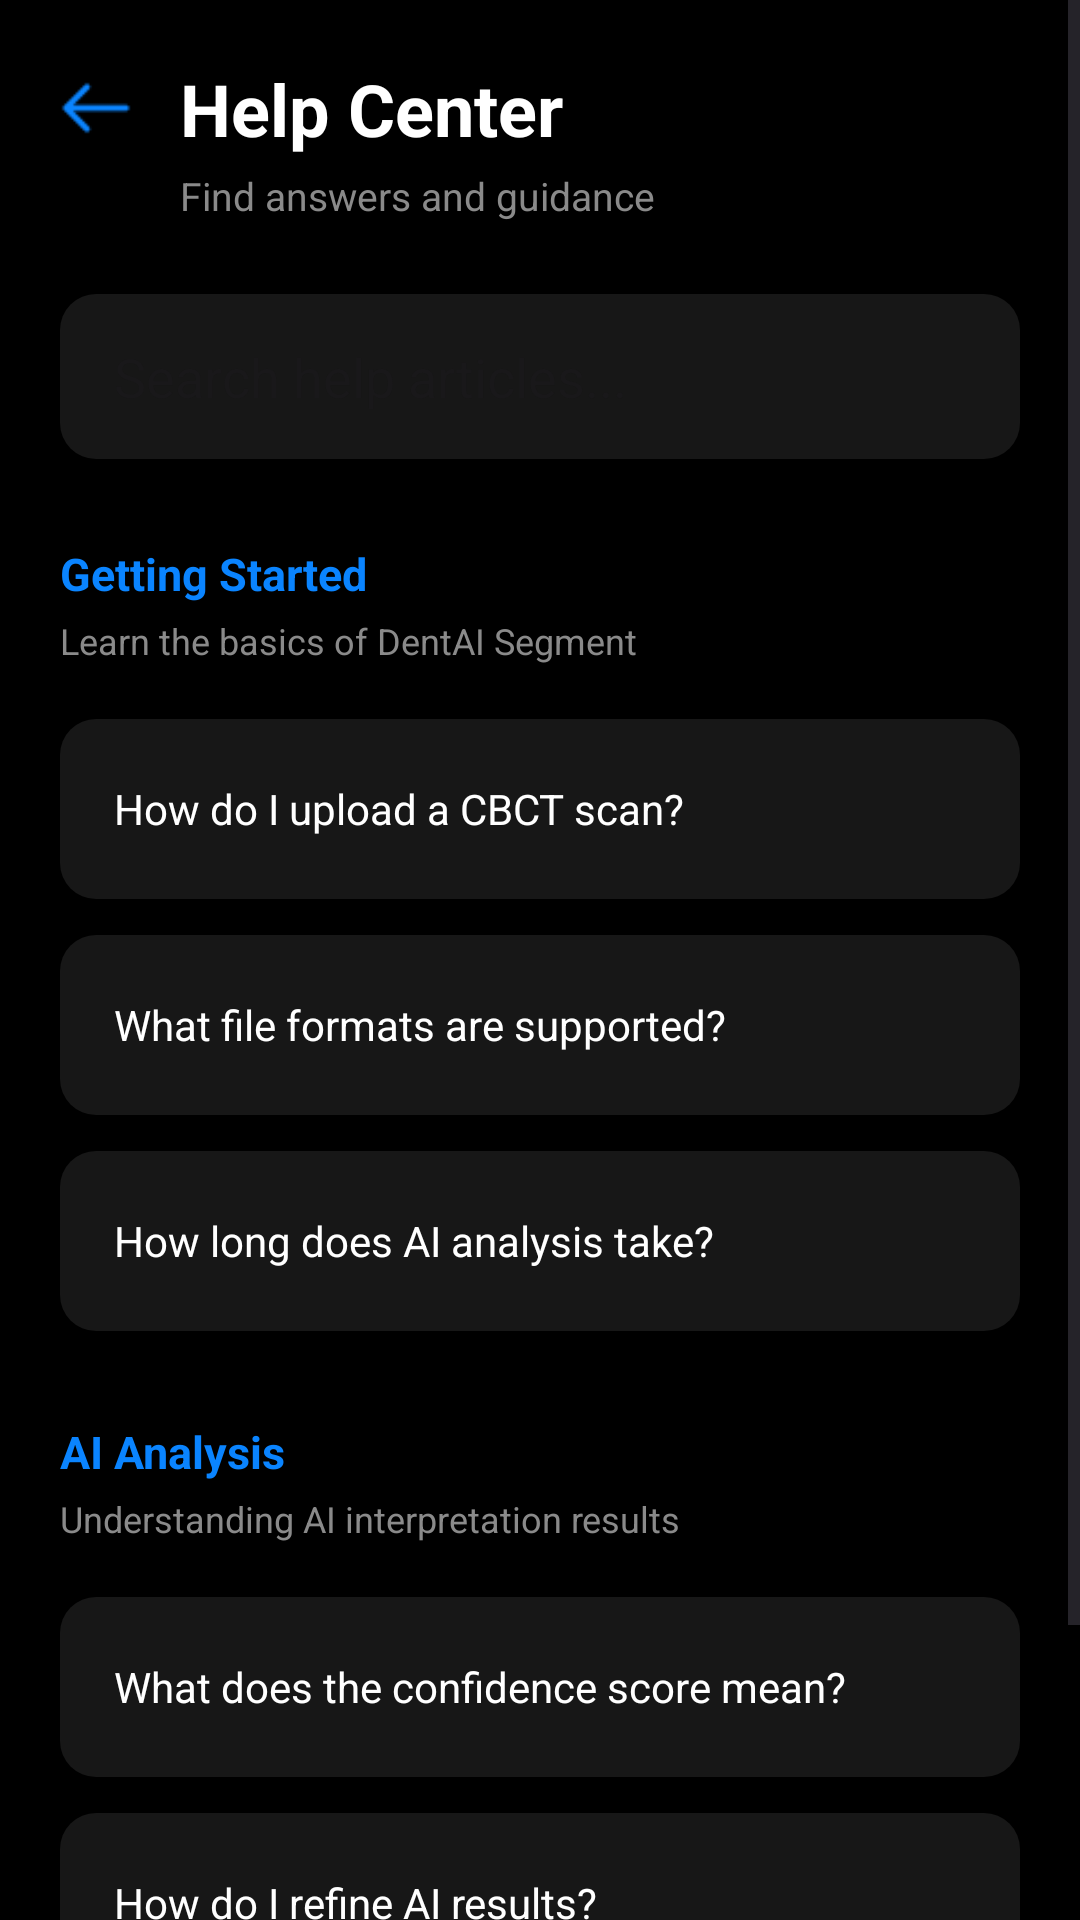

Screen size 1080 × 1920. Icon name, then its center in pixels as [x,y]:
back: [96,108]
